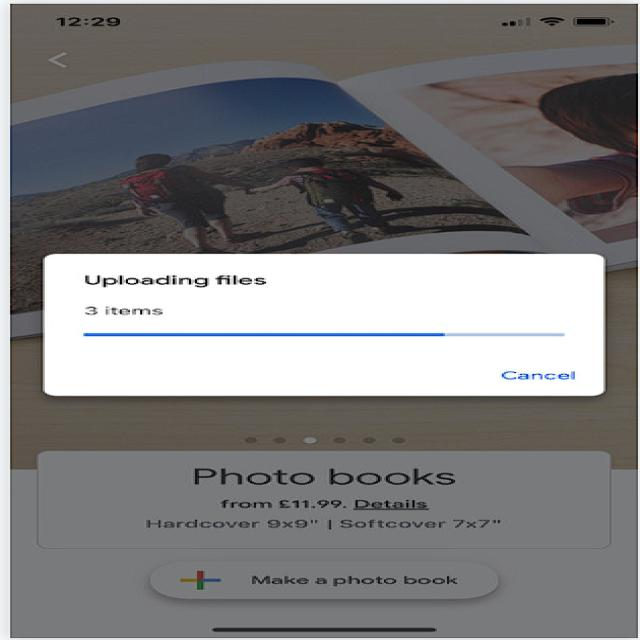icon button: (38, 42, 94, 72)
image: (15, 78, 640, 250)
progress bar: (76, 317, 576, 351)
text: (62, 271, 296, 287)
view: (502, 371, 590, 386)
